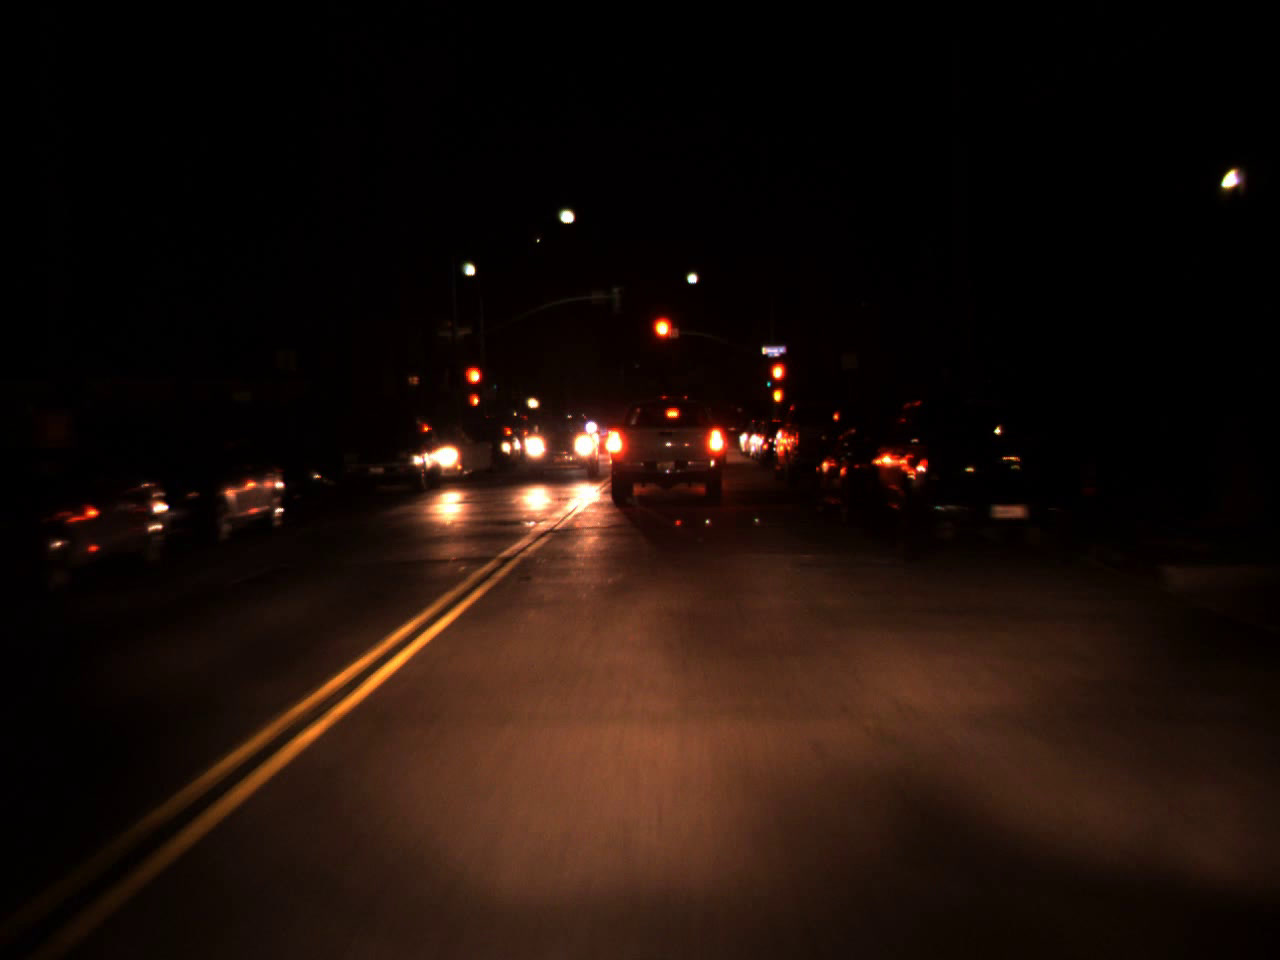stop: (649, 313, 676, 367), (462, 364, 484, 407), (769, 360, 787, 403)
